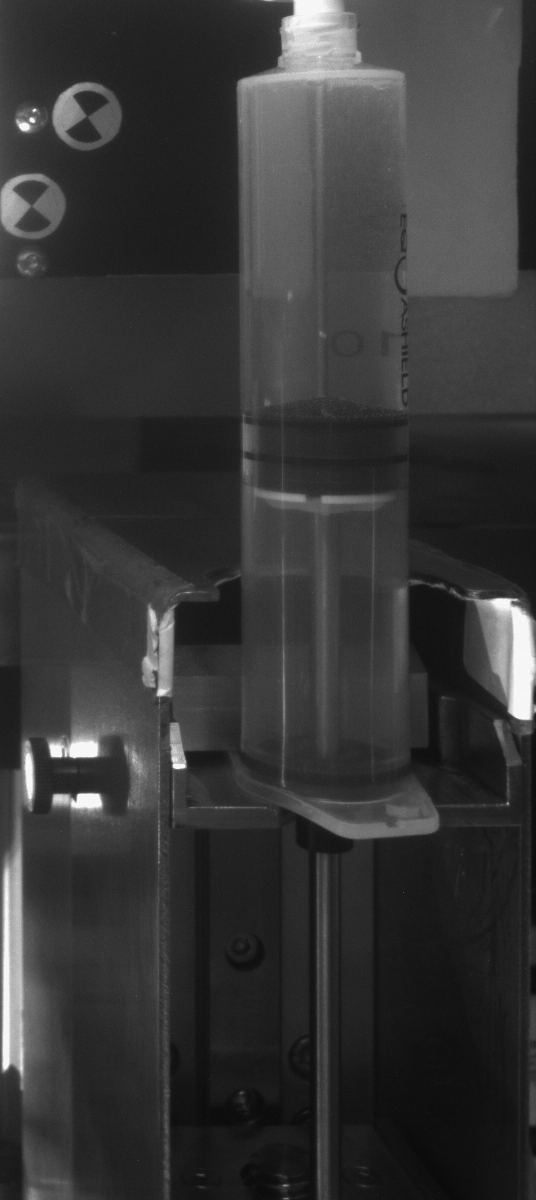piston: (240, 421, 413, 517)
